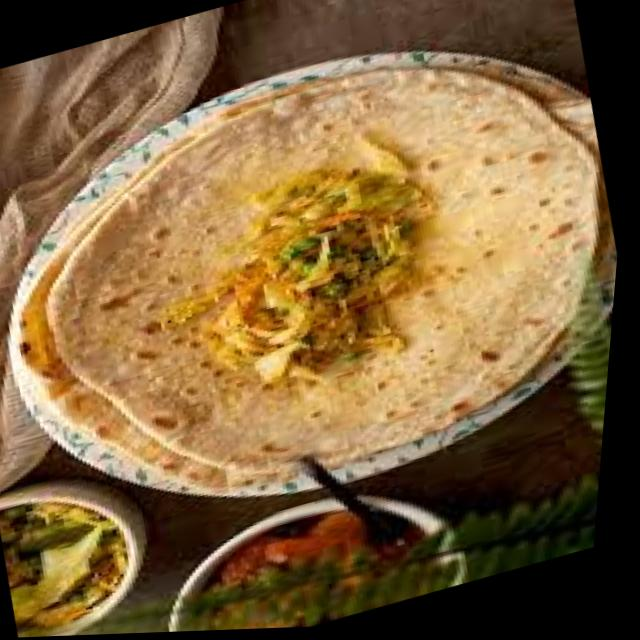CHAPATHI: (15, 65, 609, 493)
